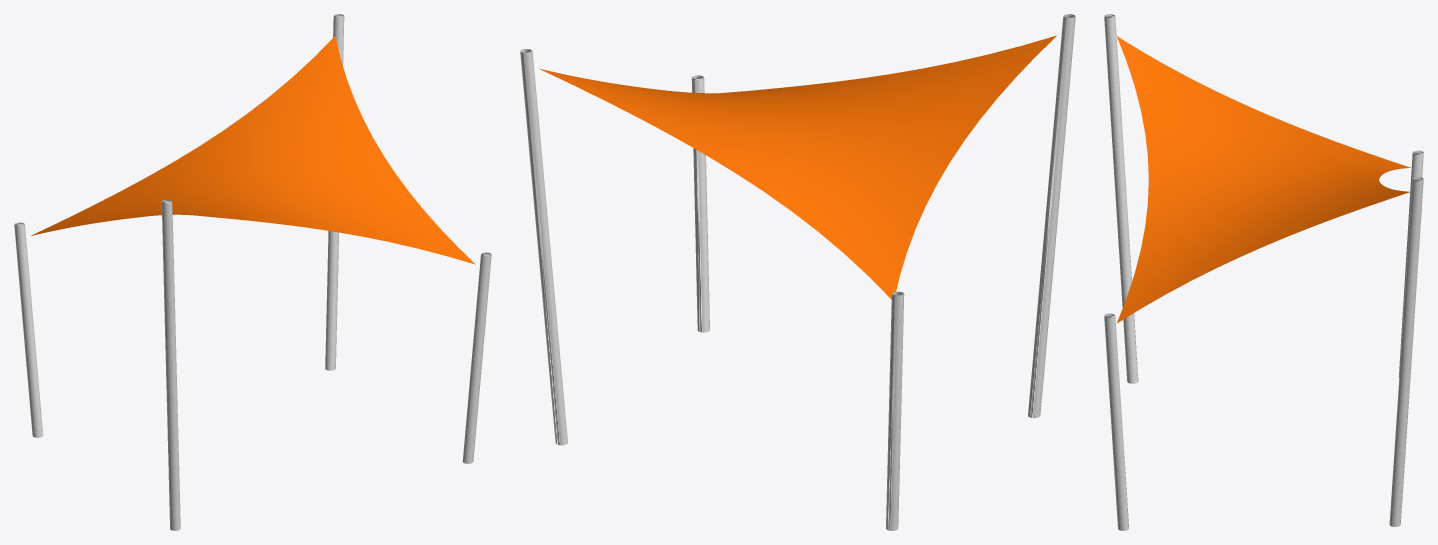
3 renders of one model, left to right at view 1: azimuth 30°, elevation 25°; view 2: azimuth 150°, elevation 25°; view 3: azimuth 270°, elevation 25°, orthographic. The views are drawn at different scales.
Visible parts, largest first — view 1: membrane_top, membrane_bottom, pole_4, pole_1, pole_3, pole_2; view 2: membrane_top, membrane_bottom, pole_4, pole_2, pole_1, pole_3; view 3: membrane_top, membrane_bottom, pole_2, pole_4, pole_3, pole_1.
Boxes of the visible parts, left/top/right/bottom form: membrane_top: left=31, top=36, right=475, bottom=264; membrane_bottom: left=34, top=36, right=474, bottom=264; pole_4: left=161, top=199, right=180, bottom=530; pole_1: left=14, top=222, right=43, bottom=437; pole_3: left=462, top=252, right=491, bottom=463; pole_2: left=325, top=14, right=344, bottom=370; membrane_top: left=539, top=35, right=1056, bottom=299; membrane_bottom: left=543, top=37, right=1054, bottom=298; pole_4: left=1028, top=14, right=1075, bottom=418; pole_2: left=520, top=49, right=567, bottom=445; pole_1: left=886, top=291, right=904, bottom=530; pole_3: left=691, top=75, right=709, bottom=332; membrane_top: left=1117, top=36, right=1410, bottom=323; membrane_bottom: left=1118, top=41, right=1410, bottom=322; pole_2: left=1389, top=177, right=1423, bottom=526; pole_4: left=1104, top=14, right=1138, bottom=383; pole_3: left=1104, top=313, right=1128, bottom=530; pole_1: left=1398, top=150, right=1423, bottom=377.
Bounding box in the file's own units: 17.29 × 17.07 × 13.92.
